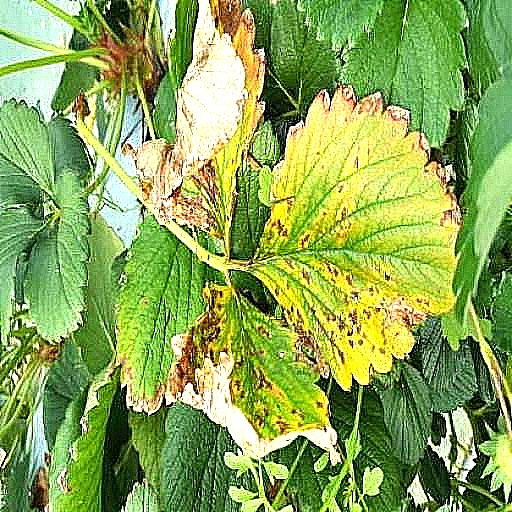Angular Leafspot: (244, 84, 463, 392), (120, 0, 269, 257), (165, 273, 340, 464), (116, 211, 227, 415)
